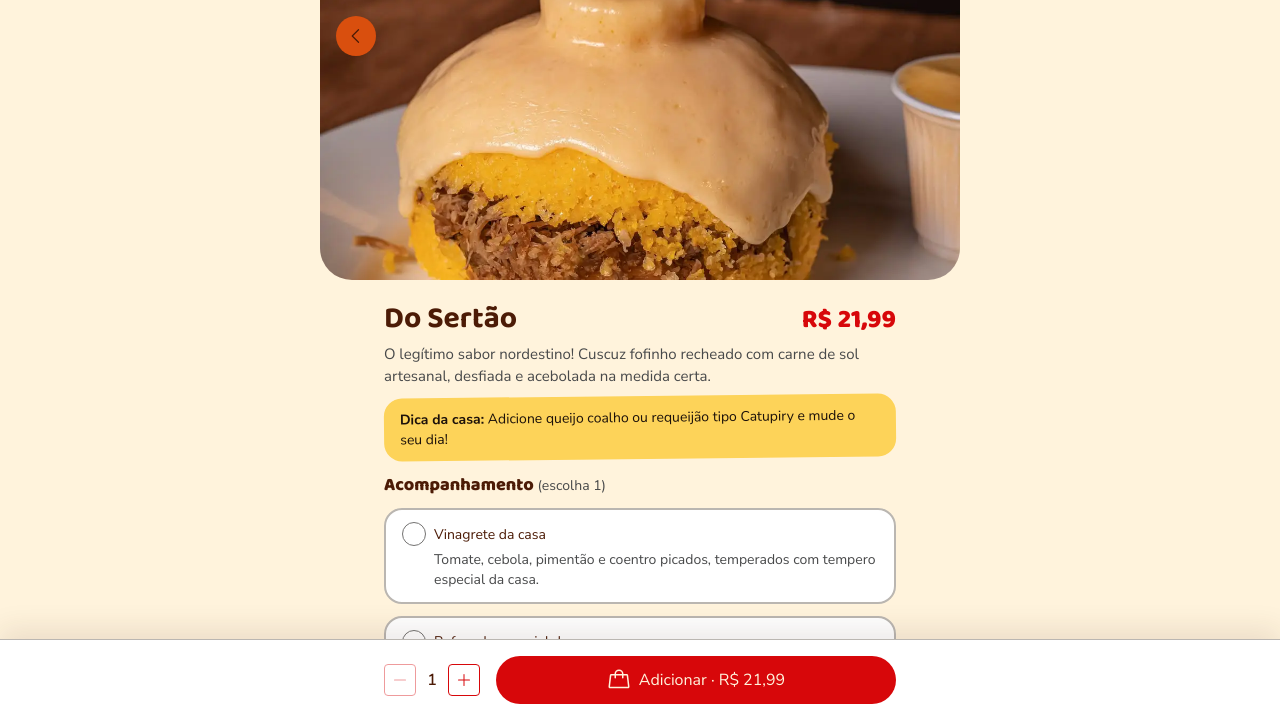
it: navegação do cardápio (seção #cardapio da Home) › origem forjada no state não redireciona para fora do site
Click the link named "Voltar ao cardápio" at (356, 36), box [336,16,376,56]
(page scrolled)
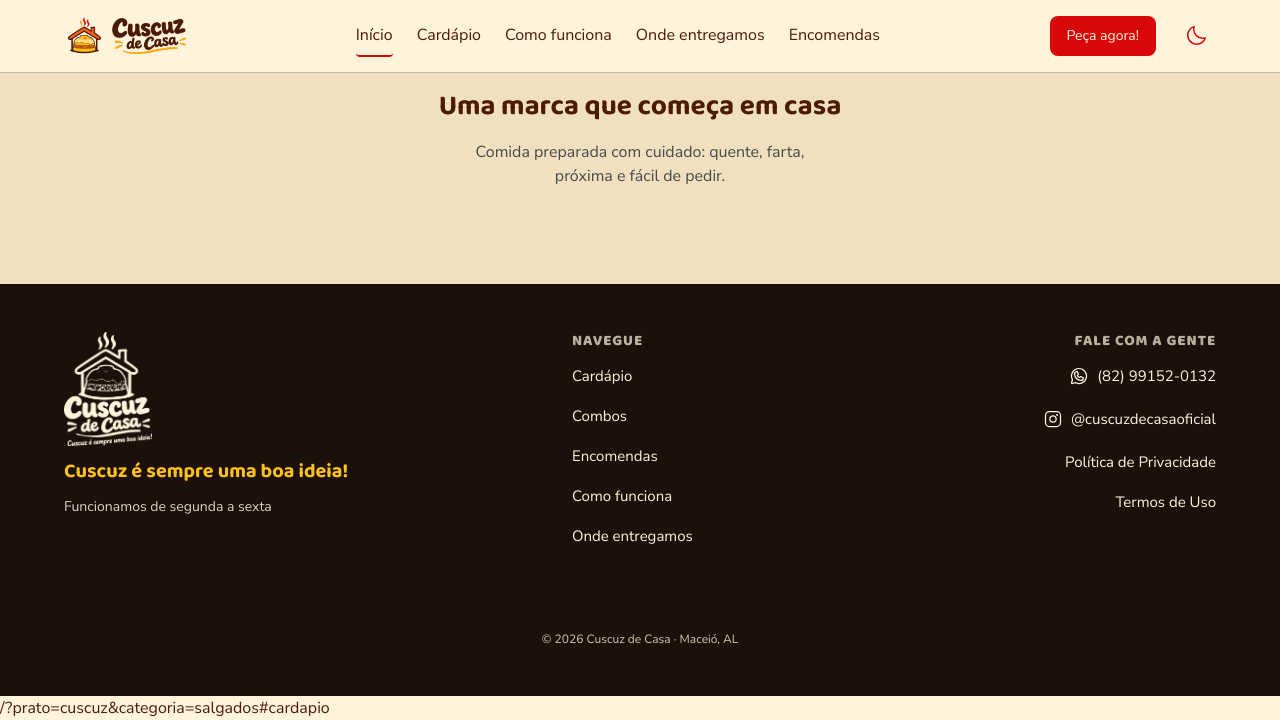
Check: the text with test id "local" reads "/?prato=cuscuz&categoria=salgados#cardapio", box [0,697,330,719]
